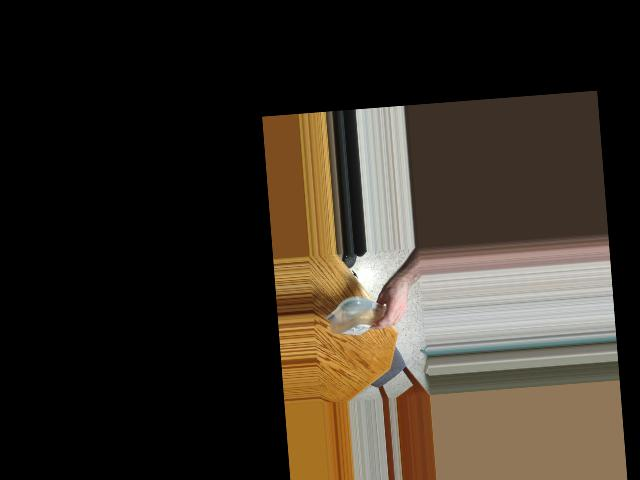cheese: (325, 296, 400, 338)
